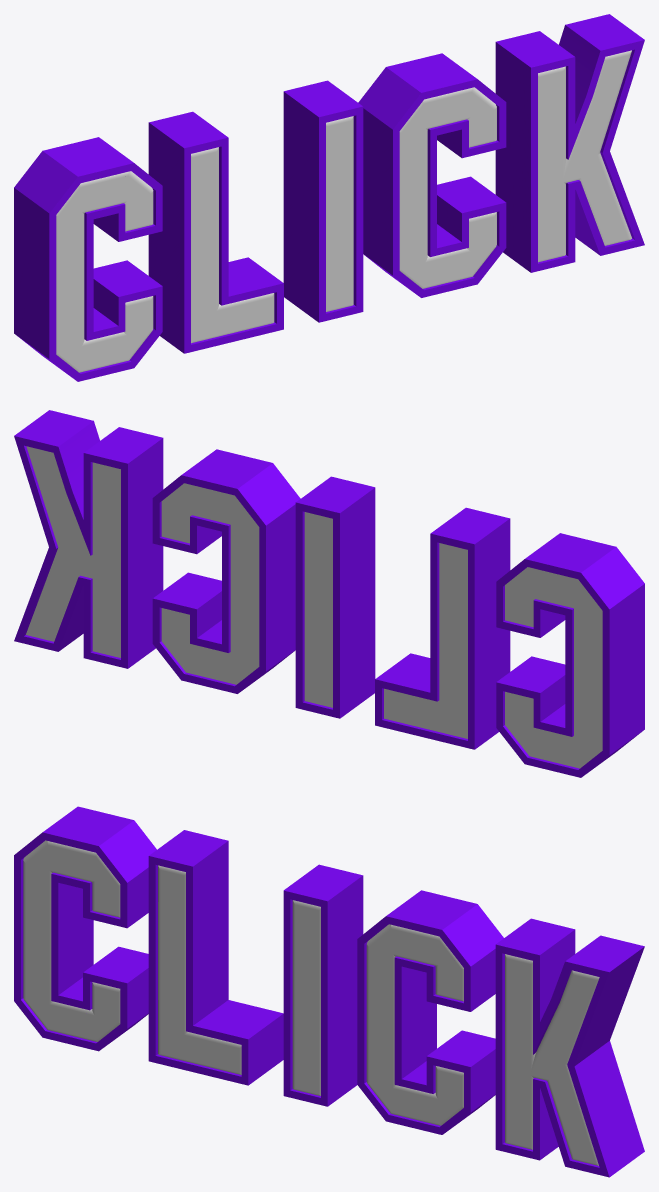
The model's file is Click3DText.fbx.
The picture shows the model from 3 angles, top to bottom: view 1: azimuth 30°, elevation 25°; view 2: azimuth 150°, elevation 25°; view 3: azimuth 330°, elevation 25°; orthographic projection.
Parts seen in each view (by area): view 1: Extrusion Model.001, Extrusion Model1, Extrusion Model.000, Extrusion Model; view 2: Extrusion Model.001, Extrusion Model1, Extrusion Model.000, Extrusion Model; view 3: Extrusion Model.001, Extrusion Model1, Extrusion Model.000, Extrusion Model.
Boxes of the visible parts, <box> form: Extrusion Model.001: <box>14,14,644,381</box>; Extrusion Model1: <box>56,50,631,372</box>; Extrusion Model.000: <box>358,53,506,297</box>; Extrusion Model: <box>399,87,496,288</box>; Extrusion Model.001: <box>14,410,644,777</box>; Extrusion Model1: <box>26,446,602,768</box>; Extrusion Model.000: <box>152,449,300,693</box>; Extrusion Model: <box>161,483,259,684</box>; Extrusion Model.001: <box>14,806,644,1177</box>; Extrusion Model1: <box>23,840,599,1165</box>; Extrusion Model.000: <box>357,890,503,1134</box>; Extrusion Model: <box>366,924,463,1125</box>.
Bounding box in the file's own units: 46.24 × 15.52 × 4.77.
